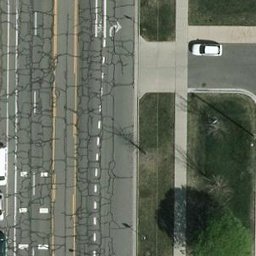car: (191, 42, 222, 57)
